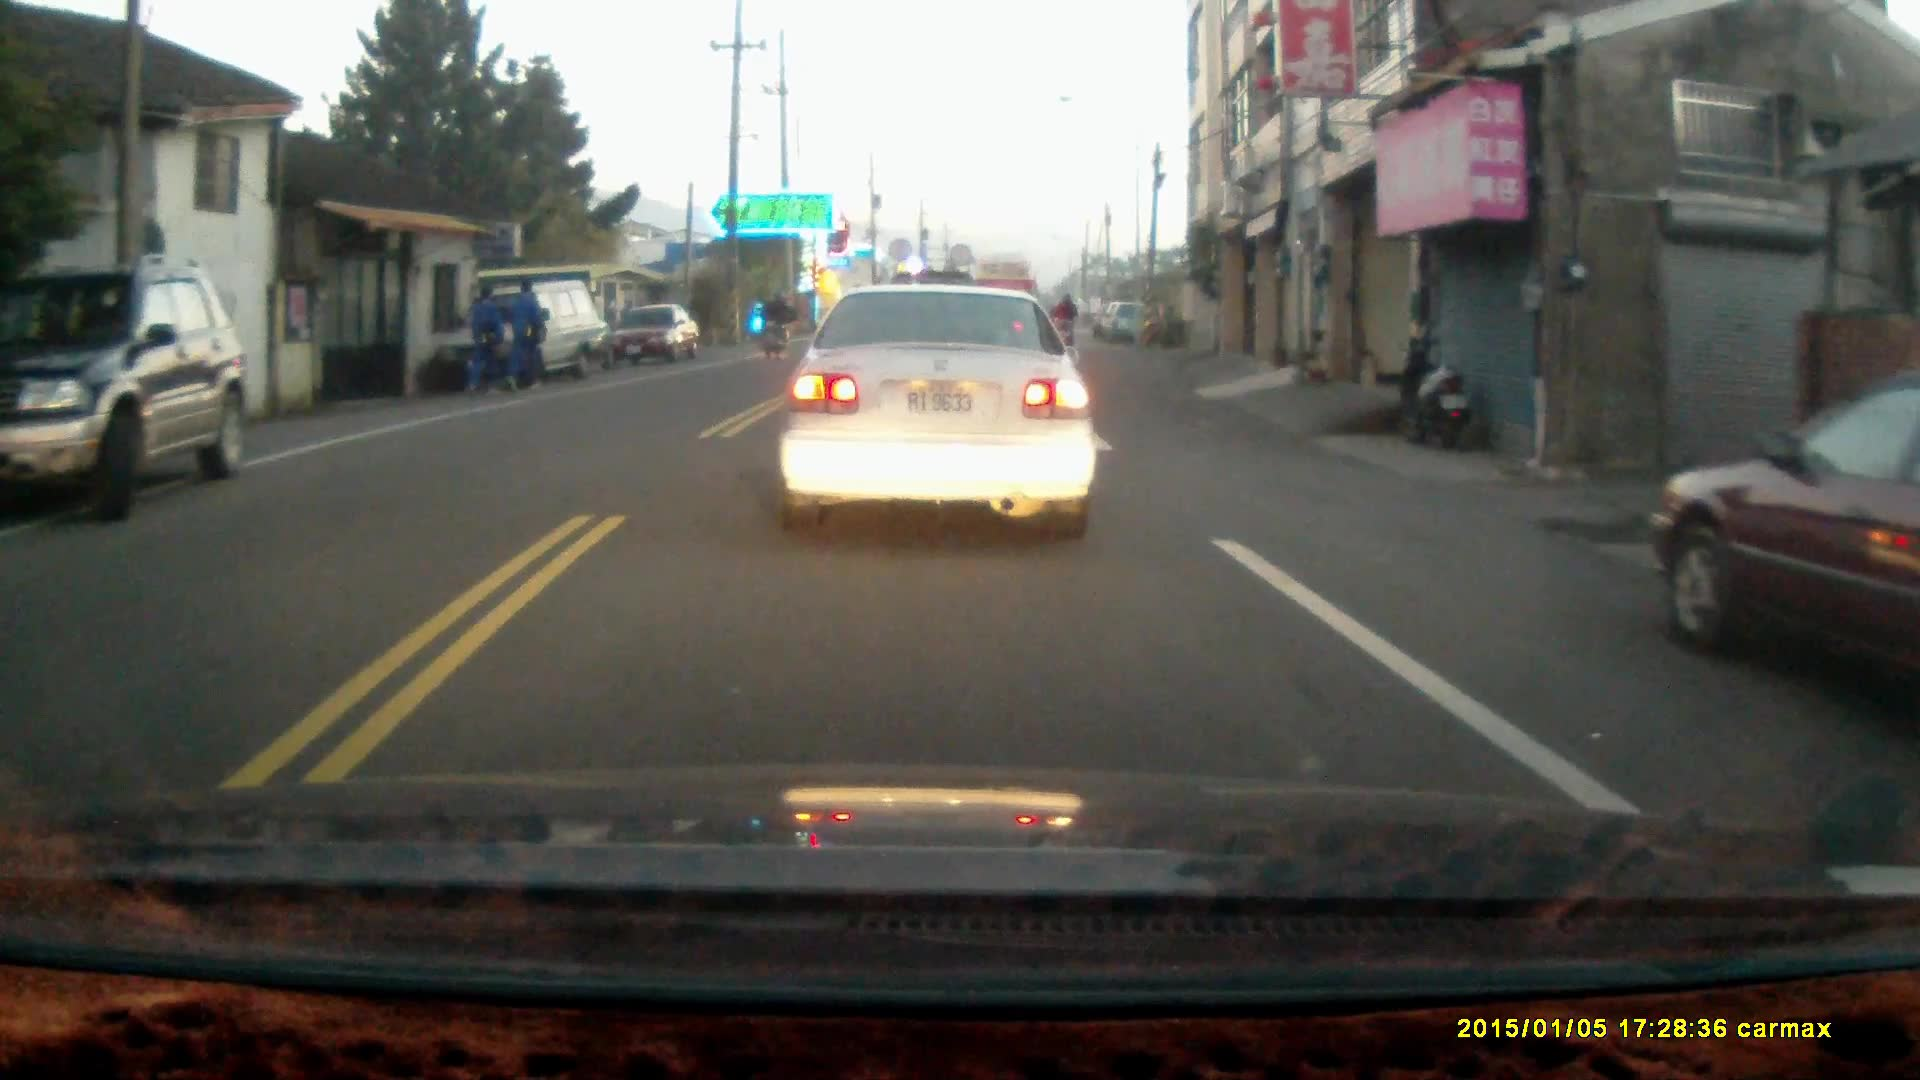pedestrian: (465, 279, 505, 401), (507, 275, 544, 394)
rider: (755, 291, 791, 355)
vehicle: (1653, 395, 1920, 737), (778, 280, 1105, 537), (1, 262, 257, 525), (467, 279, 614, 381), (604, 303, 704, 363)
